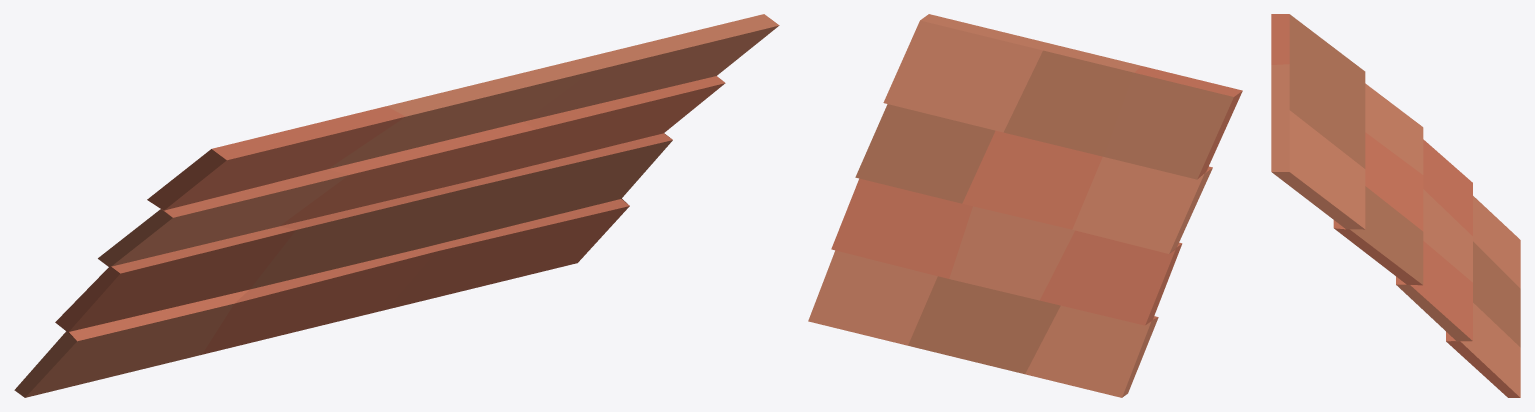
File: roman_roof_tile_slanted.fbx
3 renders of one model, left to right at view 1: azimuth 30°, elevation 25°; view 2: azimuth 150°, elevation 25°; view 3: azimuth 270°, elevation 25°, orthographic. The views are drawn at different scales.
Parts seen in each view (by area): view 1: Plane.006; view 2: Plane.006; view 3: Plane.006.
Part boxes in pixels (x1,y1,x2,y2): Plane.006: [14, 14, 779, 397]; Plane.006: [808, 14, 1242, 397]; Plane.006: [1271, 14, 1520, 397].
Size of the model in its own units: 3.01 by 2 by 2.
